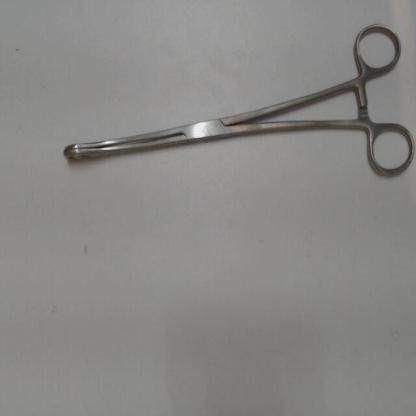Sponge Forceps: (52, 16, 415, 186)
